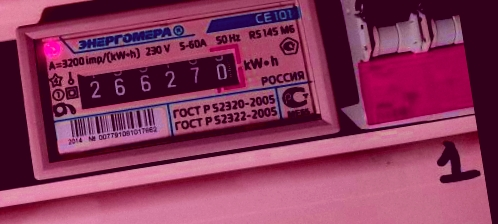0: (212, 60, 229, 82)
2: (87, 77, 103, 100), (163, 68, 179, 89)
6: (111, 75, 127, 97), (137, 72, 153, 92)
7: (189, 64, 201, 84)
screen: (63, 38, 253, 120)
